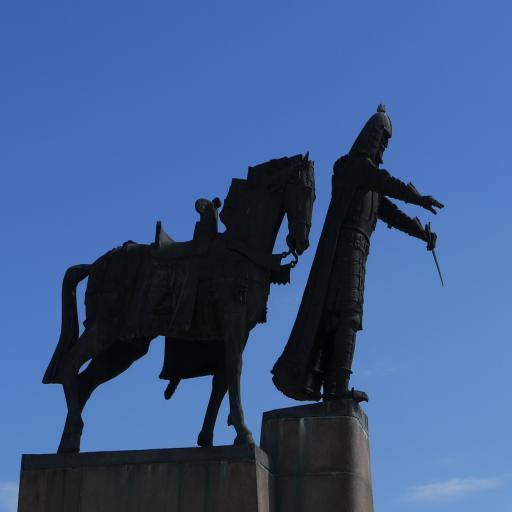horse: (40, 150, 318, 454)
